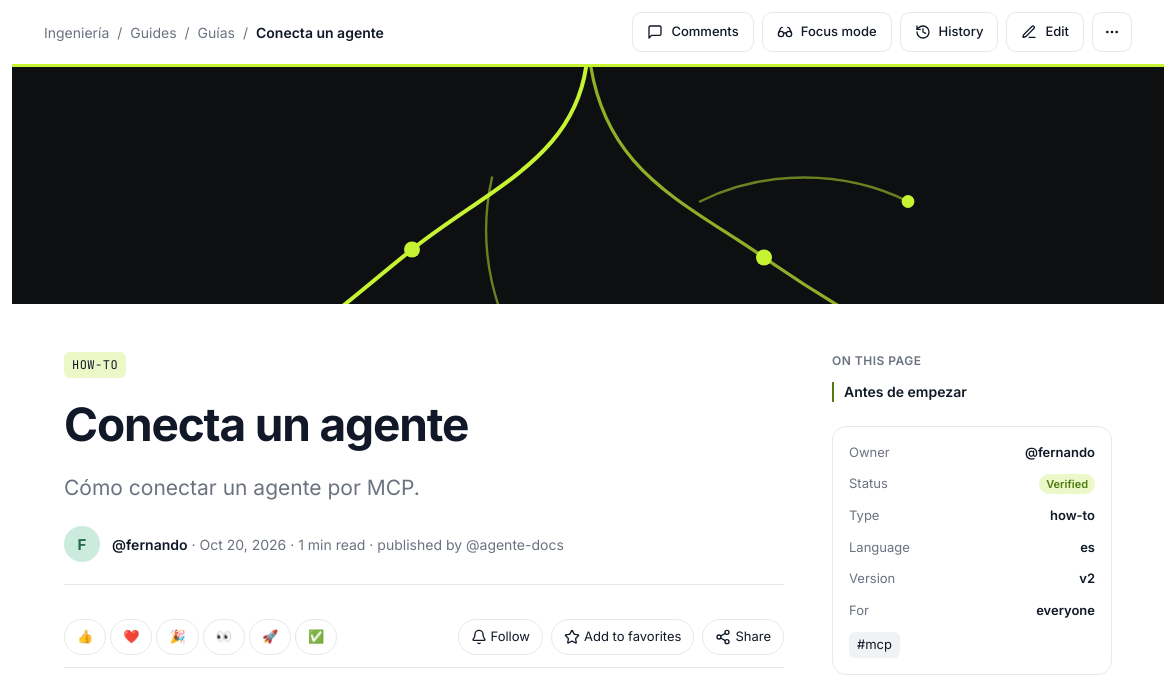
Test: ReadPage › opens the comments beside the page
Click the button "Comments" at coordinates (693, 32), box 632,12 -> 754,52
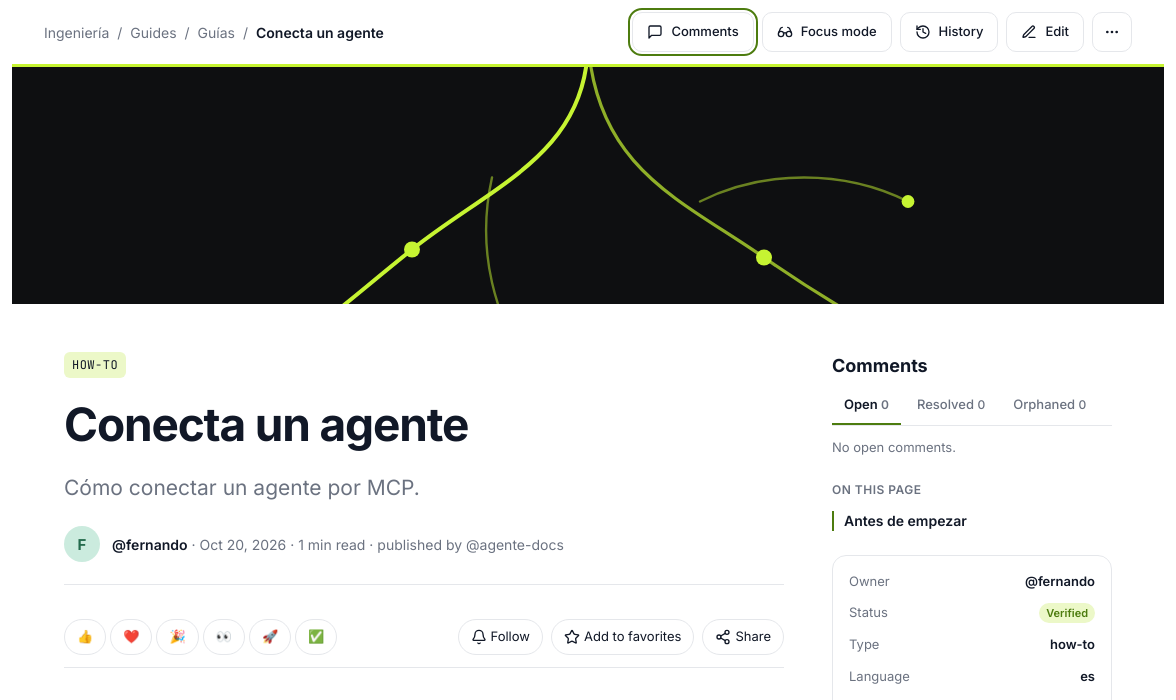
Result: the text "No open comments." is shown at 832,438 -> 956,454
